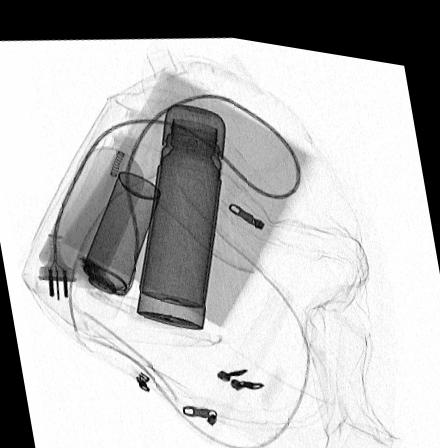Sprayer: (71, 165, 161, 313)
